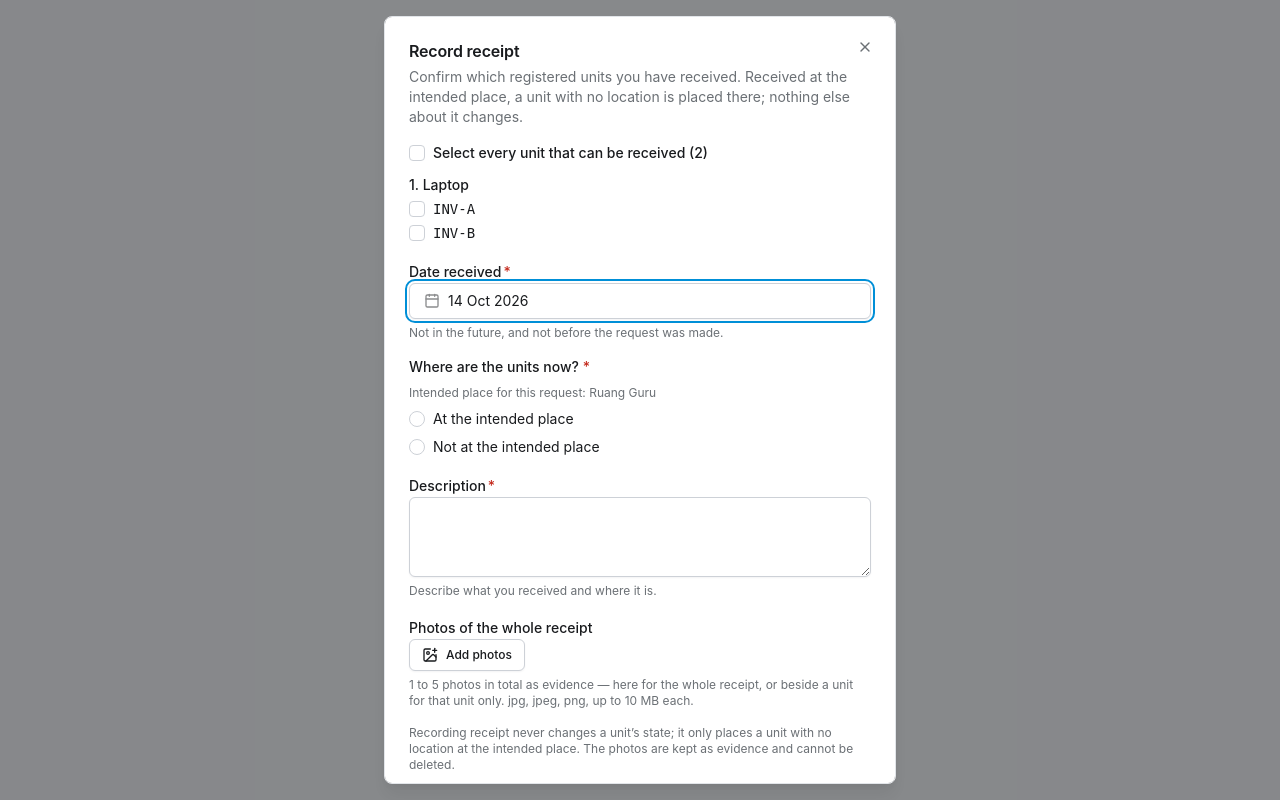
Test: Record receipt — what happens to each unit’s location › says nothing until a placement is chosen
Click the checkbox labelled "INV-A". click: (417, 209)
box: [409, 201, 425, 217]
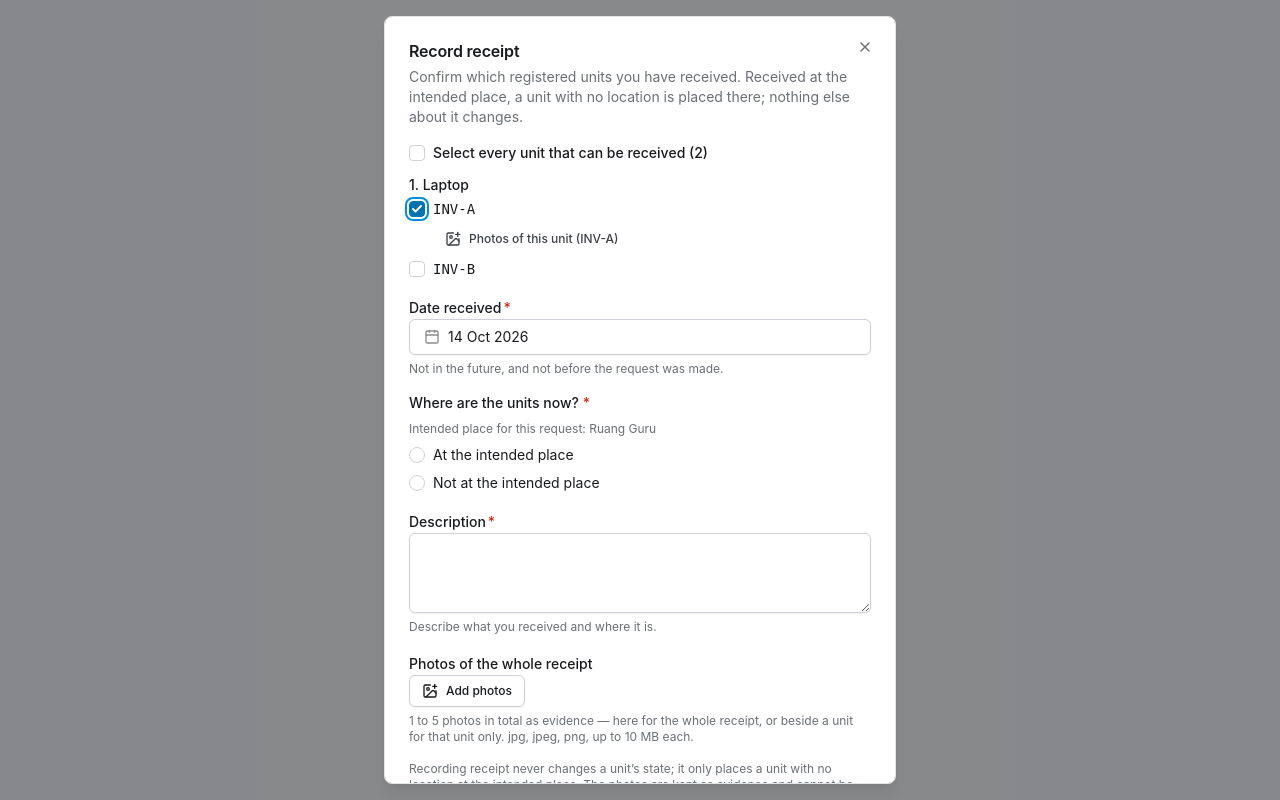
Click the checkbox labelled "INV-B". click: (417, 269)
box: [409, 261, 425, 277]
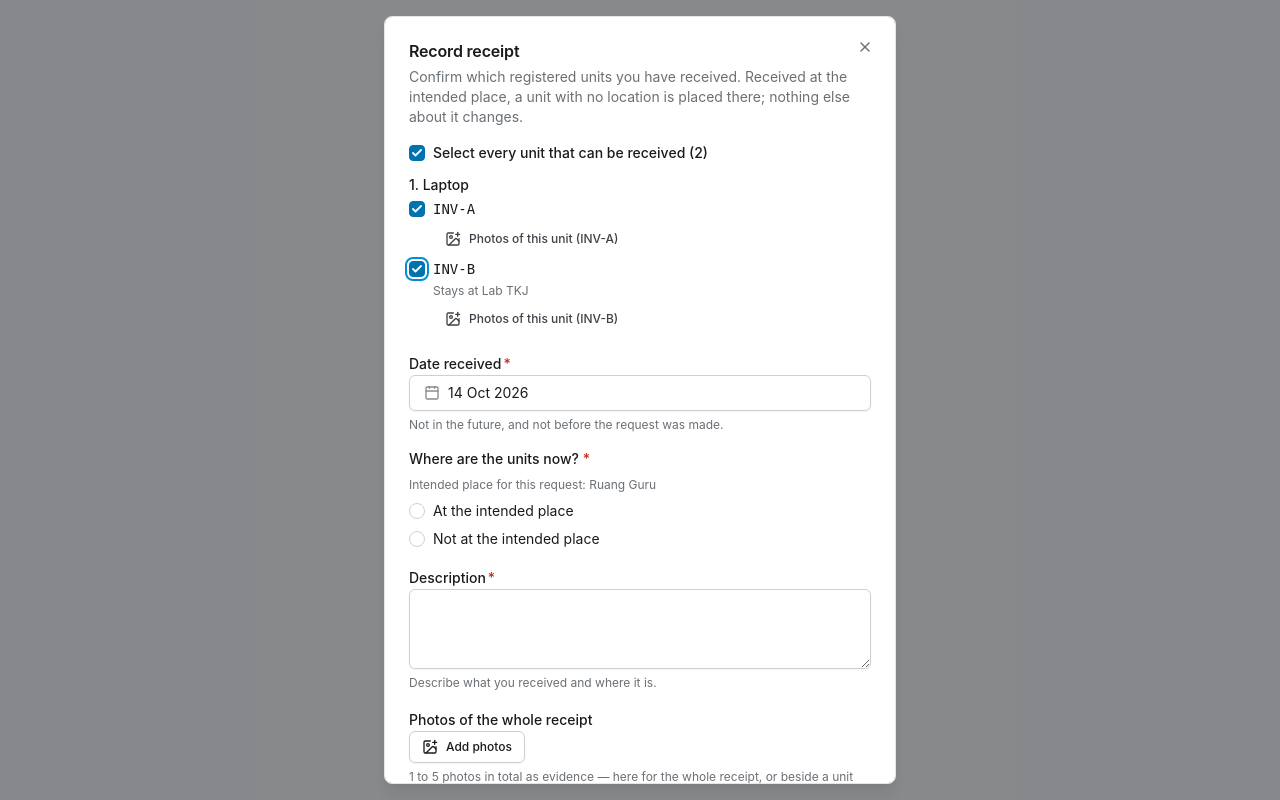
Check: the text with test id "receipt-unit-placement-INV-B" reads "Stays at Lab TKJ", box [433, 283, 529, 298]
